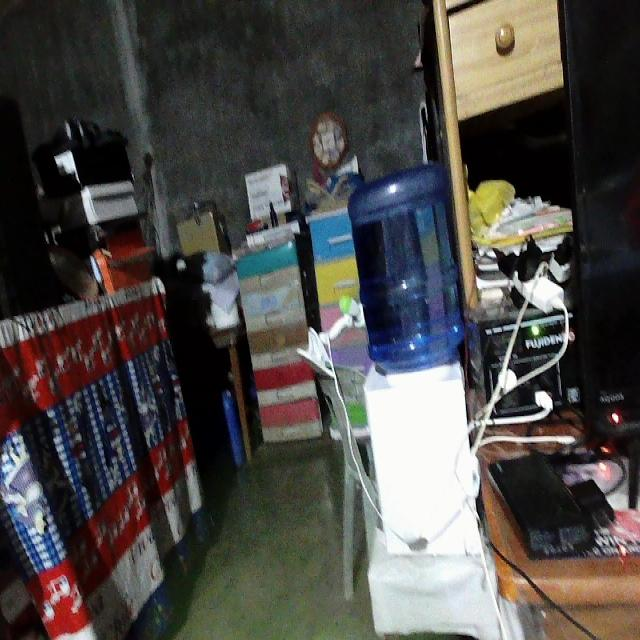-: (489, 232, 579, 312)
